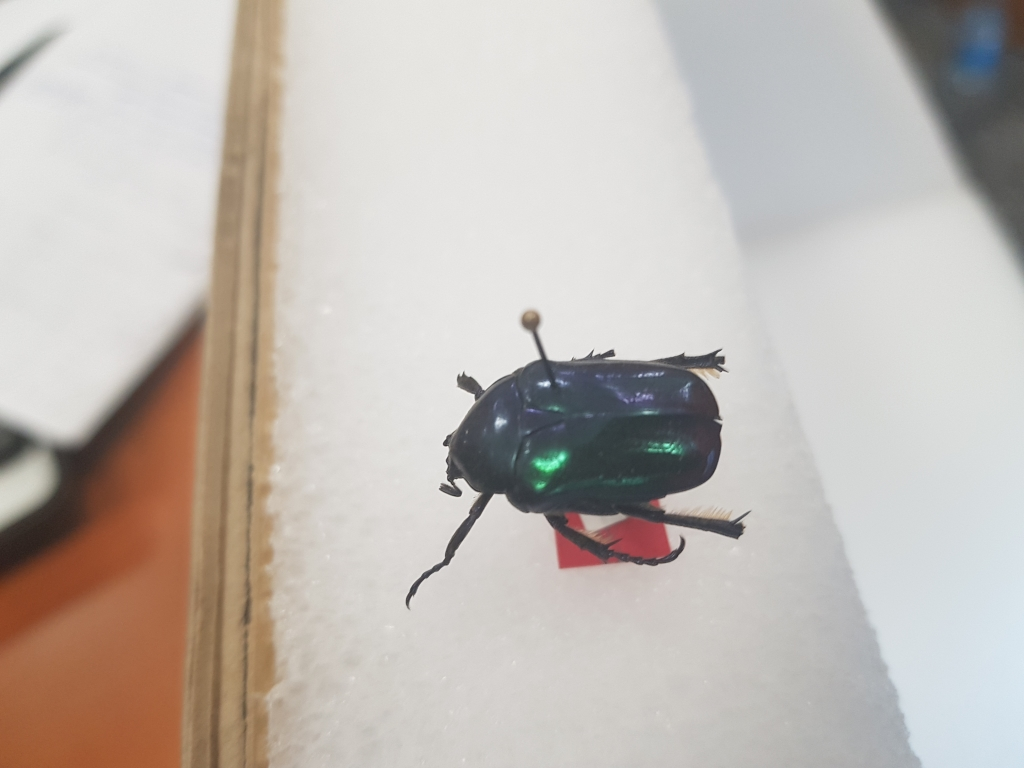Protaetia_besucheti: (386, 343, 760, 621)
